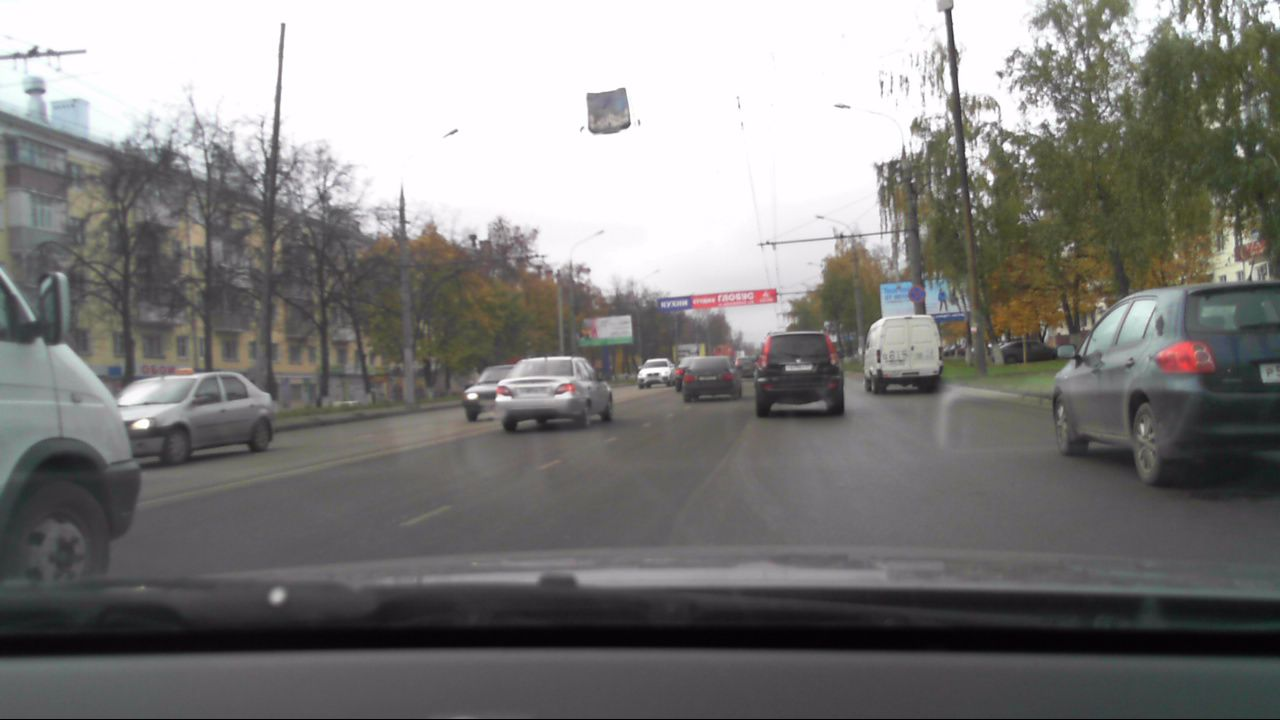No Parking: (906, 283, 926, 304)
